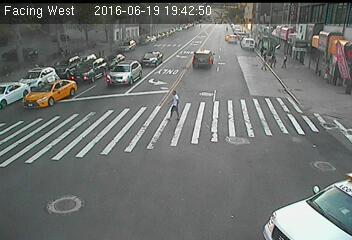neg: (177, 135, 208, 177), (220, 69, 249, 107), (106, 41, 135, 79), (292, 157, 320, 194), (82, 132, 106, 164), (50, 188, 74, 220), (190, 34, 213, 65), (144, 183, 166, 211), (48, 102, 69, 129), (87, 62, 107, 88), (259, 110, 276, 132)
pos: (163, 86, 190, 122), (281, 53, 293, 68)
